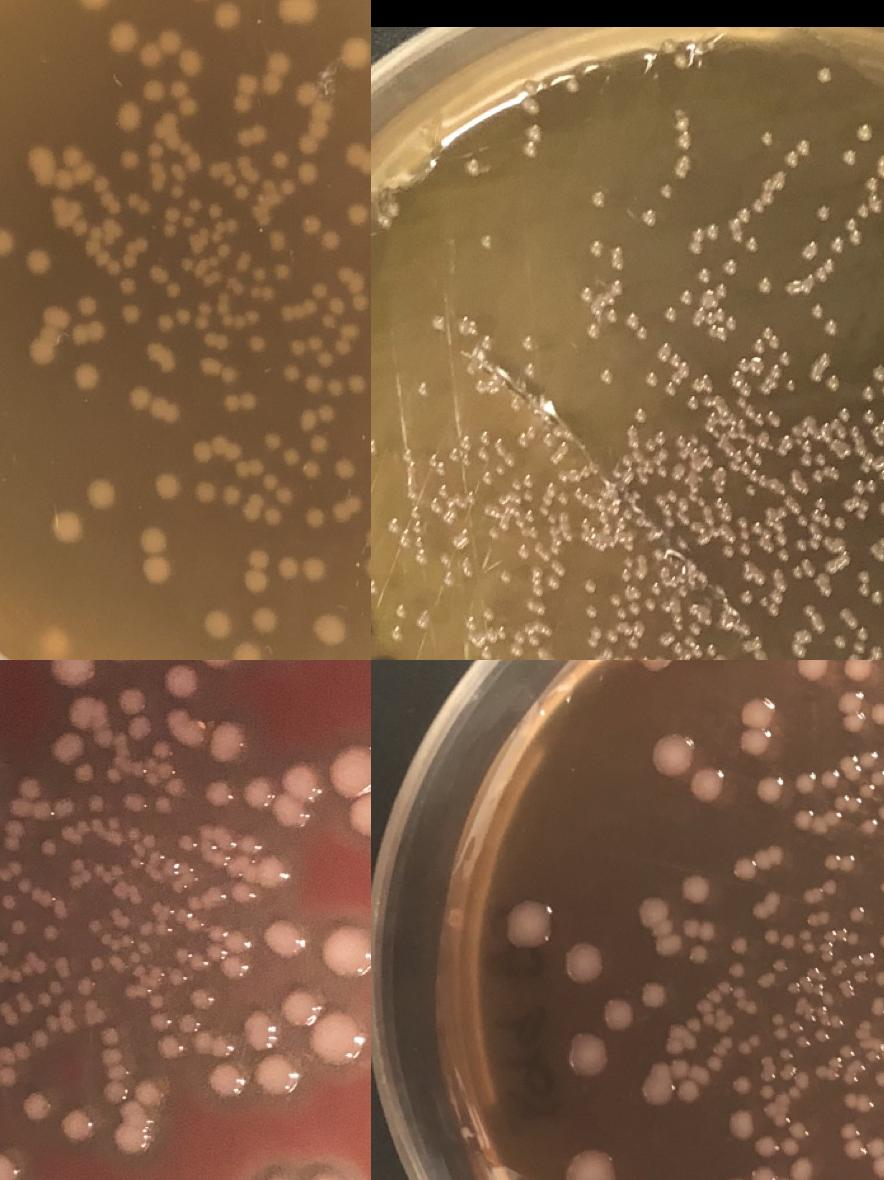assalmonicida: (737, 444, 770, 497), (726, 200, 764, 244), (732, 383, 764, 426), (809, 496, 845, 530), (702, 308, 738, 342), (607, 586, 640, 620), (687, 225, 718, 255), (642, 430, 668, 461), (807, 352, 831, 384), (757, 366, 781, 396), (784, 275, 816, 294), (842, 216, 862, 244), (755, 595, 781, 616), (855, 198, 882, 218), (594, 647, 635, 660), (520, 473, 536, 506), (760, 325, 780, 349), (585, 624, 602, 650), (798, 452, 827, 467), (770, 570, 788, 593), (654, 466, 682, 480), (839, 608, 856, 630), (736, 358, 762, 372), (619, 622, 644, 636), (514, 432, 532, 449), (496, 569, 513, 585), (415, 614, 432, 630), (414, 381, 431, 397), (386, 517, 403, 533), (520, 335, 536, 351), (516, 544, 532, 560), (478, 470, 494, 486), (481, 606, 496, 622), (481, 335, 496, 351), (477, 429, 492, 445), (522, 361, 536, 378), (395, 534, 412, 548), (874, 155, 884, 178), (390, 626, 405, 641), (856, 126, 872, 140), (522, 100, 538, 114), (522, 142, 536, 158), (486, 525, 500, 541), (476, 447, 490, 463), (392, 604, 408, 618), (526, 126, 541, 140), (453, 534, 468, 548), (856, 569, 870, 583), (836, 408, 850, 422), (832, 634, 846, 648), (830, 237, 844, 251), (824, 376, 838, 390), (824, 320, 838, 334), (821, 258, 835, 272), (816, 206, 830, 220), (809, 470, 823, 484), (809, 303, 823, 317), (794, 538, 808, 552), (790, 566, 804, 580), (777, 352, 791, 366), (776, 549, 790, 563), (774, 532, 788, 546), (774, 506, 788, 520), (757, 279, 771, 293), (744, 237, 758, 251), (739, 590, 753, 604), (738, 541, 752, 555), (735, 514, 749, 528), (722, 260, 736, 274), (721, 544, 735, 558), (714, 283, 728, 297), (702, 643, 716, 657), (696, 532, 710, 546), (684, 397, 698, 411), (675, 116, 689, 130), (667, 354, 681, 368), (664, 382, 678, 396), (664, 306, 678, 320), (660, 182, 674, 196), (643, 370, 657, 384), (634, 327, 648, 341), (632, 408, 646, 422), (625, 638, 639, 652), (604, 630, 618, 644), (586, 324, 600, 338), (582, 606, 596, 620), (578, 287, 592, 301), (869, 646, 882, 660), (841, 151, 855, 164), (778, 437, 792, 450), (678, 290, 692, 303), (660, 632, 674, 645), (642, 596, 655, 610), (642, 210, 655, 224), (626, 437, 640, 450), (619, 454, 632, 468), (860, 388, 874, 400), (856, 585, 870, 597), (794, 514, 808, 526), (784, 378, 796, 392), (767, 416, 781, 428), (760, 132, 774, 144), (696, 270, 710, 282), (688, 621, 700, 635), (664, 490, 678, 502), (600, 370, 614, 382), (592, 193, 604, 207), (582, 580, 596, 592), (872, 366, 884, 379), (865, 178, 878, 190), (862, 412, 875, 424), (870, 591, 882, 603), (856, 627, 868, 639), (852, 641, 864, 653), (752, 340, 764, 352), (702, 421, 714, 433), (690, 379, 702, 391), (688, 434, 700, 446), (686, 492, 698, 504), (676, 449, 688, 461), (674, 435, 686, 447), (663, 517, 675, 529), (653, 549, 665, 561), (649, 582, 661, 594), (636, 474, 648, 486), (371, 581, 379, 596), (371, 439, 379, 454), (877, 502, 884, 516), (847, 654, 860, 660), (879, 383, 884, 397), (654, 656, 668, 660), (637, 656, 651, 660)
pddamselae: (282, 992, 364, 1068), (648, 731, 726, 803), (751, 1120, 815, 1180), (230, 52, 290, 112), (194, 300, 259, 353), (318, 266, 368, 332), (232, 458, 294, 507), (319, 921, 371, 979), (294, 81, 334, 155), (736, 693, 778, 760), (272, 766, 318, 827), (502, 898, 554, 950), (838, 1122, 884, 1180), (326, 739, 371, 798), (176, 1012, 232, 1058), (98, 1025, 130, 1105), (26, 304, 68, 364), (562, 1030, 610, 1078), (730, 841, 786, 880), (81, 224, 121, 277), (253, 1054, 300, 1096), (137, 526, 170, 585), (206, 202, 240, 259), (42, 660, 100, 693), (562, 1147, 620, 1180), (562, 942, 606, 983), (161, 198, 203, 240), (129, 387, 179, 422), (136, 29, 182, 66), (812, 1043, 854, 1083), (286, 334, 332, 370), (55, 1106, 95, 1146), (190, 434, 241, 465), (14, 1085, 54, 1124), (90, 172, 122, 218), (266, 920, 302, 956), (836, 690, 865, 732), (296, 402, 336, 432), (636, 896, 671, 930), (601, 996, 634, 1032), (112, 1123, 148, 1155), (704, 1034, 734, 1072), (170, 78, 198, 118), (208, 1063, 243, 1095), (199, 777, 234, 809), (130, 1076, 165, 1108), (164, 665, 198, 697), (48, 732, 82, 764), (248, 266, 278, 302), (858, 748, 884, 789), (150, 266, 182, 299), (241, 777, 274, 809), (299, 279, 326, 317), (801, 877, 839, 904), (256, 855, 286, 889), (754, 773, 785, 805), (146, 142, 165, 194), (246, 1015, 275, 1049), (717, 1163, 775, 1180), (154, 307, 190, 334), (245, 548, 268, 590), (679, 873, 708, 905), (332, 323, 360, 356), (680, 916, 716, 941), (328, 494, 360, 522), (344, 143, 371, 175), (793, 660, 829, 684), (342, 38, 370, 68), (314, 616, 342, 646), (248, 603, 276, 633), (202, 608, 230, 638), (152, 470, 180, 500), (108, 22, 136, 52), (51, 511, 79, 541), (69, 320, 105, 343), (169, 160, 189, 201), (212, 0, 240, 29), (86, 480, 113, 510), (760, 927, 795, 950), (631, 660, 683, 675), (821, 852, 858, 873), (830, 794, 865, 816), (240, 491, 264, 523), (639, 980, 666, 1008), (220, 391, 257, 411), (840, 1092, 872, 1115), (844, 660, 873, 684), (674, 1078, 700, 1104), (126, 192, 154, 216), (113, 105, 140, 129), (344, 202, 370, 226), (294, 160, 320, 184), (176, 50, 202, 74), (140, 80, 166, 104), (72, 365, 98, 389), (23, 249, 48, 273), (121, 791, 146, 815), (70, 762, 95, 786), (716, 980, 746, 1000), (237, 832, 261, 856), (176, 832, 200, 856), (162, 774, 186, 798), (151, 798, 175, 822), (128, 716, 152, 740), (120, 691, 144, 715), (36, 837, 60, 861), (281, 0, 309, 20), (16, 778, 40, 801), (225, 931, 250, 953), (769, 1013, 788, 1041), (794, 772, 817, 795), (226, 883, 250, 905), (222, 956, 246, 978), (158, 1038, 182, 1060), (736, 1034, 762, 1054), (819, 767, 841, 790), (0, 1154, 19, 1180), (190, 988, 212, 1010), (790, 809, 812, 831), (230, 643, 258, 660), (870, 695, 884, 728), (234, 126, 254, 148), (119, 150, 139, 172), (54, 170, 74, 192), (731, 1074, 751, 1096), (798, 928, 814, 955), (222, 485, 243, 505), (62, 145, 81, 167), (346, 374, 366, 394), (324, 378, 344, 398), (322, 230, 342, 250), (307, 434, 327, 454), (304, 560, 324, 580), (304, 508, 324, 528), (302, 373, 322, 393), (300, 212, 320, 232), (280, 448, 300, 468), (278, 557, 298, 577), (262, 508, 282, 528), (219, 365, 239, 385), (77, 297, 97, 317), (846, 904, 866, 924), (750, 900, 770, 920), (728, 934, 748, 954), (726, 960, 746, 980), (664, 1036, 684, 1056), (806, 910, 830, 926), (334, 460, 354, 479), (280, 365, 300, 384), (299, 461, 318, 480), (688, 945, 707, 964), (269, 264, 289, 282), (268, 233, 286, 253), (247, 336, 267, 354), (122, 302, 140, 322), (118, 276, 136, 296), (196, 484, 214, 503), (694, 998, 713, 1016), (278, 178, 296, 196), (264, 432, 282, 450), (232, 184, 250, 202), (220, 170, 237, 188), (179, 256, 196, 274), (0, 231, 12, 255), (844, 930, 862, 946), (876, 789, 884, 823), (776, 1046, 793, 1062), (362, 553, 371, 583), (852, 970, 868, 986), (828, 1014, 844, 1030), (794, 1034, 810, 1050), (772, 957, 788, 973), (872, 969, 884, 989), (813, 1028, 828, 1044), (786, 1084, 801, 1100), (758, 1086, 774, 1100), (78, 0, 106, 7)
